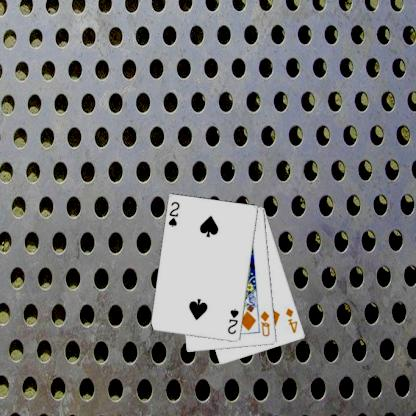2S: (225, 306, 240, 336), (166, 199, 181, 229)
4D: (283, 305, 299, 335)
QD: (258, 309, 272, 338)
